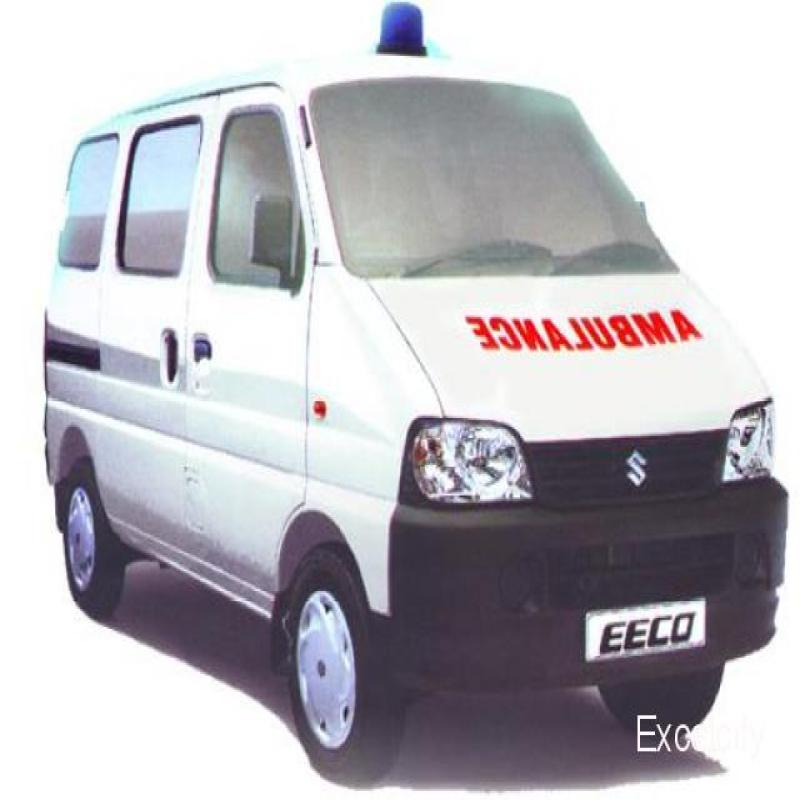ambulance: (30, 19, 774, 770)
